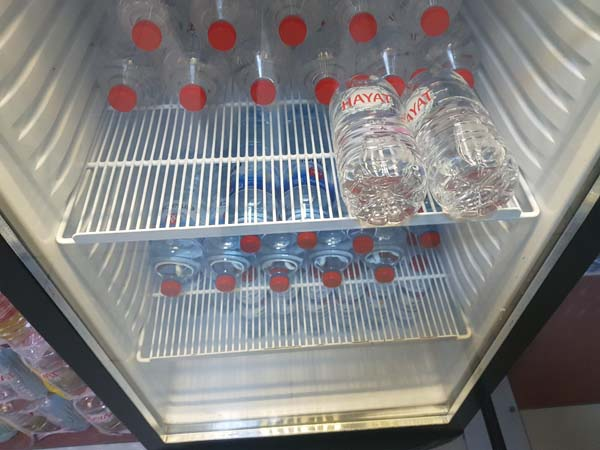hayat1000mlsu: (402, 58, 522, 220), (329, 71, 428, 222)
